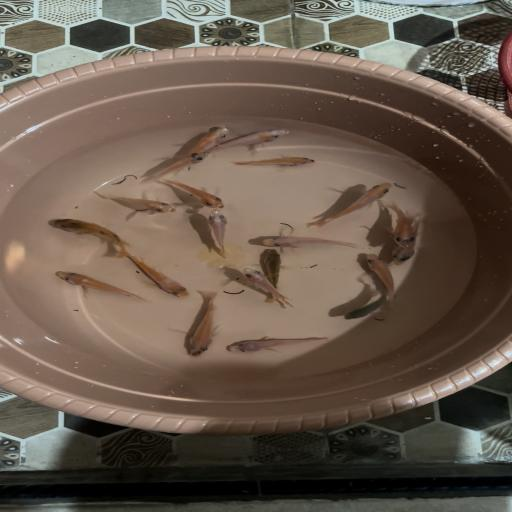nila: (312, 180, 394, 230), (51, 269, 157, 305), (44, 217, 134, 256), (127, 250, 196, 299), (180, 290, 226, 360), (134, 150, 216, 188), (224, 331, 332, 358), (358, 252, 408, 306), (158, 174, 229, 210), (238, 267, 298, 308), (215, 125, 295, 154), (256, 230, 364, 251), (94, 190, 181, 215), (343, 290, 400, 325), (204, 208, 242, 258), (385, 222, 426, 268), (175, 124, 235, 155), (381, 200, 416, 247), (260, 249, 290, 303), (229, 154, 320, 170)
